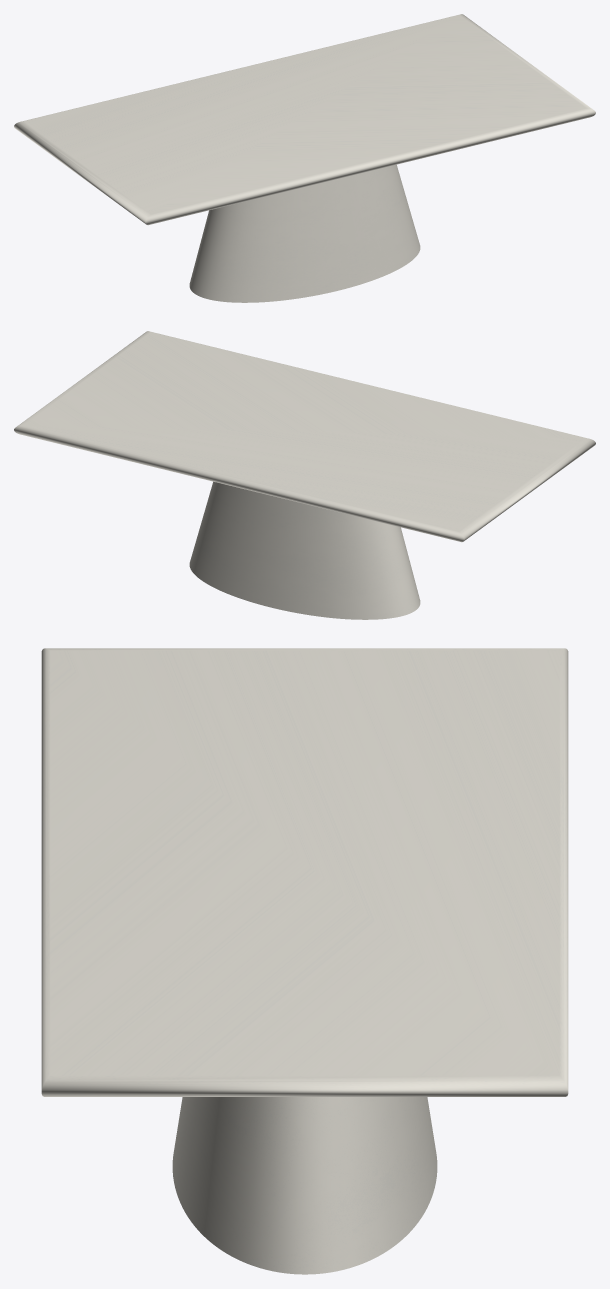
The model's file is pale_recta_round_eqone.glb.
3 views of the same model, one above another, from view 1: azimuth 30°, elevation 25°; view 2: azimuth 150°, elevation 25°; view 3: azimuth 270°, elevation 25° (orthographic). The views are drawn at different scales.
Visible parts, largest first — view 1: round_recta, eqone; view 2: round_recta, eqone; view 3: round_recta, eqone.
Part boxes in pixels (x1,y1,x2,y2): round_recta: (14, 14, 595, 225); eqone: (189, 164, 420, 302); round_recta: (14, 331, 595, 542); eqone: (189, 481, 420, 619); round_recta: (41, 648, 568, 1096); eqone: (172, 1097, 437, 1274).
Bounding box in the file's own units: 7.76 × 2.5 × 3.93.
1 material, 1 textured.
